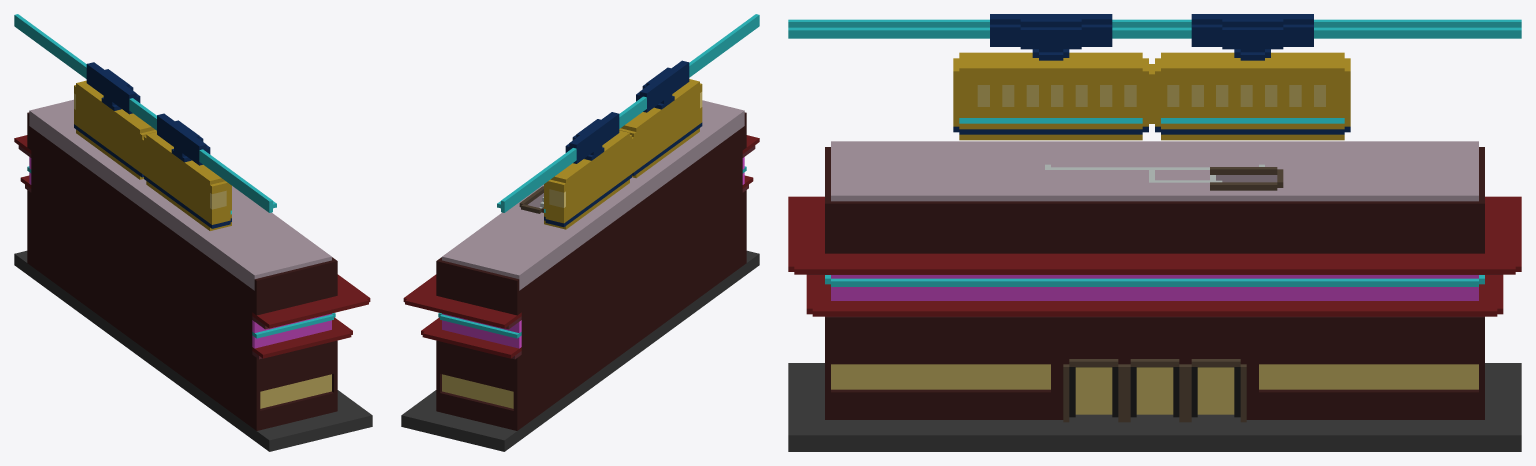
The model's file is SM_Environment_Street15.fbx.
The picture shows the model from 3 angles, left to right: view 1: azimuth 30°, elevation 25°; view 2: azimuth 150°, elevation 25°; view 3: azimuth 270°, elevation 25°; orthographic projection. The views are drawn at different scales.
Parts seen in each view (by area): view 1: Street15; view 2: Street15; view 3: Street15.
Part boxes in pixels (x1,y1,x2,y2): Street15: (14, 14, 372, 451); Street15: (401, 14, 759, 451); Street15: (788, 14, 1521, 451).
Size of the model in its own units: 560 by 1320 by 2400.
4 materials, 1 textured.
